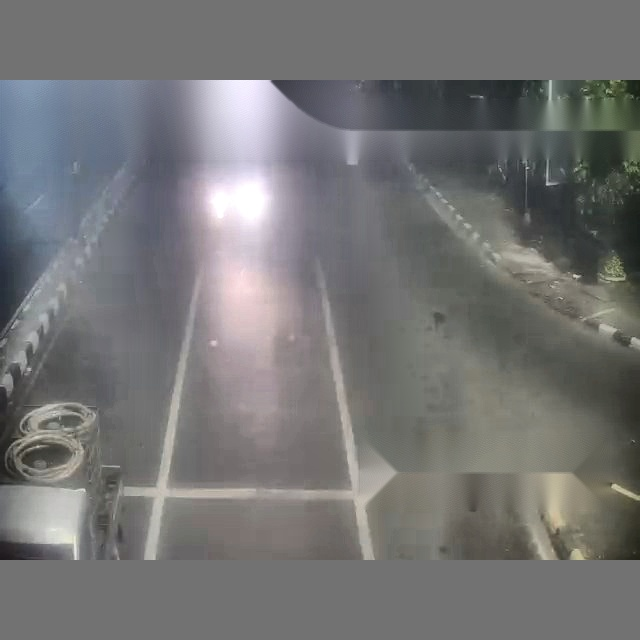Mobil: (0, 402, 119, 558)
Truk: (237, 79, 640, 557)
